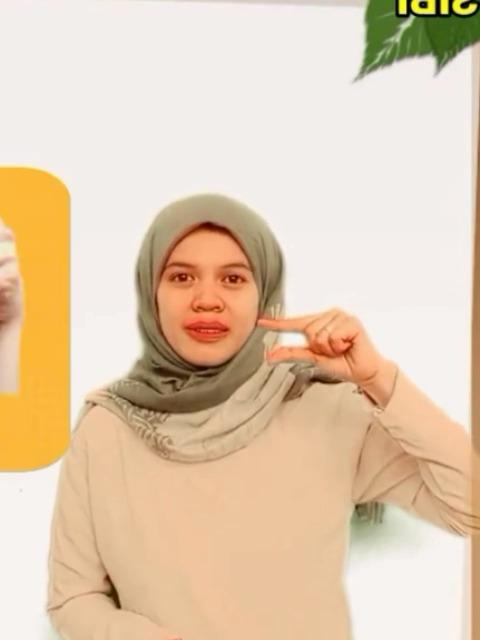G: (255, 307, 379, 388)
